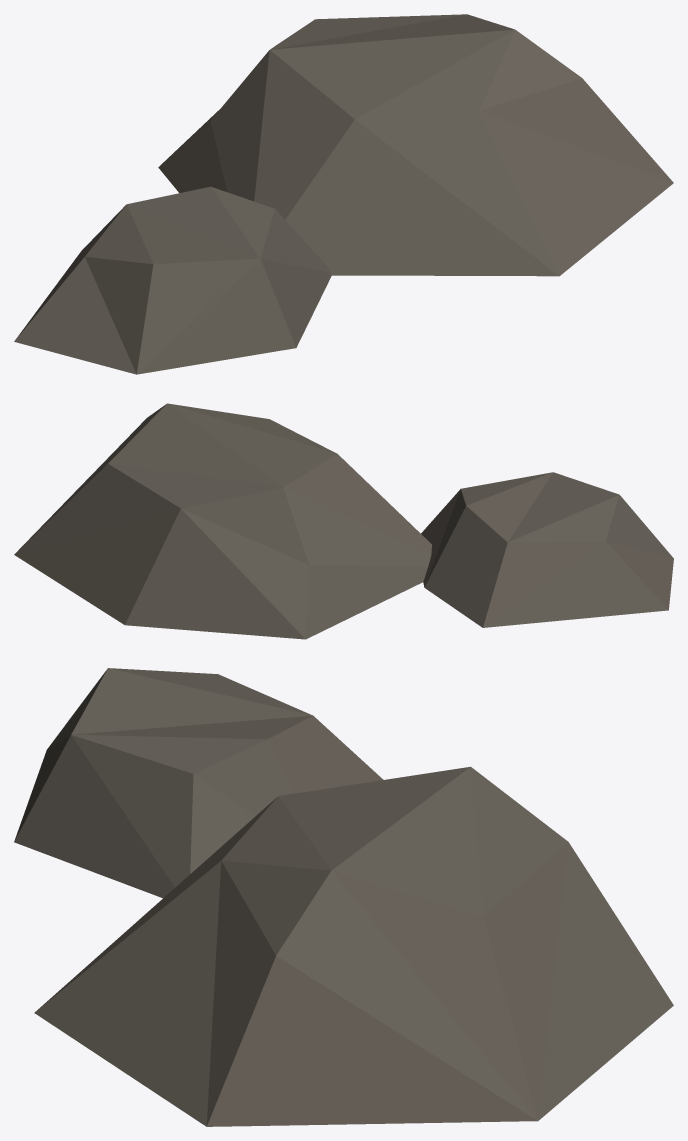
File: SM_Env_Rocks_03.fbx
3 views of the same model, one above another, from view 1: azimuth 30°, elevation 25°; view 2: azimuth 150°, elevation 25°; view 3: azimuth 270°, elevation 25° (orthographic). The views are drawn at different scales.
Visible parts, largest first — view 1: SM_Env_Rocks_03; view 2: SM_Env_Rocks_03; view 3: SM_Env_Rocks_03.
Boxes of the visible parts, box(x1,y1,x2,y2) form: SM_Env_Rocks_03: box(14, 14, 673, 374); SM_Env_Rocks_03: box(14, 403, 673, 639); SM_Env_Rocks_03: box(14, 668, 673, 1126).
Size of the model in its own units: 81.57 by 17.19 by 54.98.
